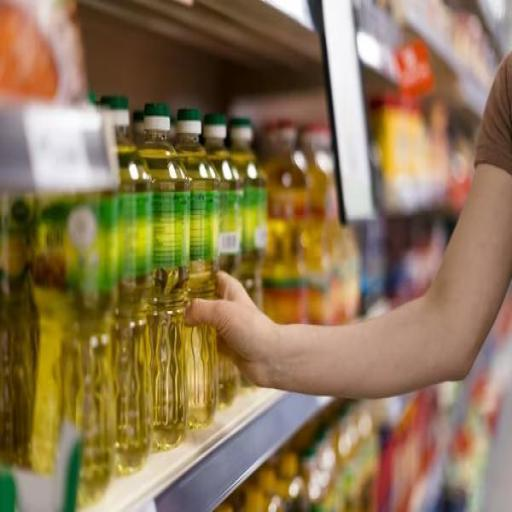bottle: (134, 88, 192, 458), (174, 70, 222, 440), (228, 109, 272, 397)
